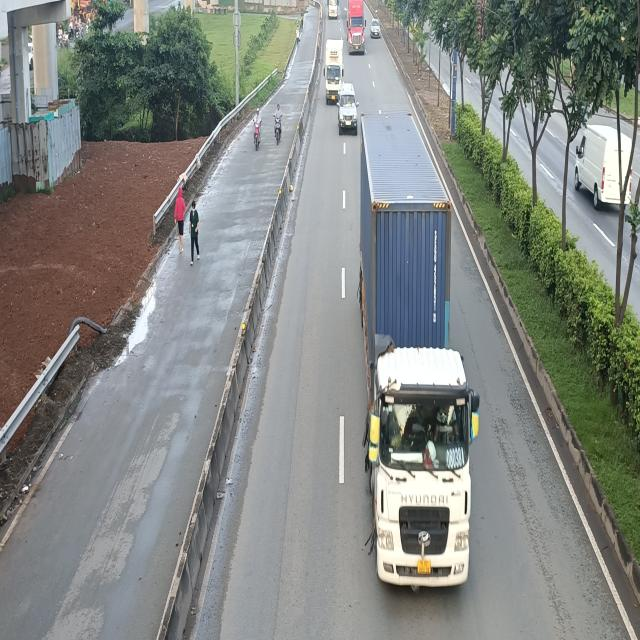car: (339, 82, 359, 134)
container: (358, 112, 483, 593), (346, 0, 367, 56)
truck: (324, 39, 344, 105)
